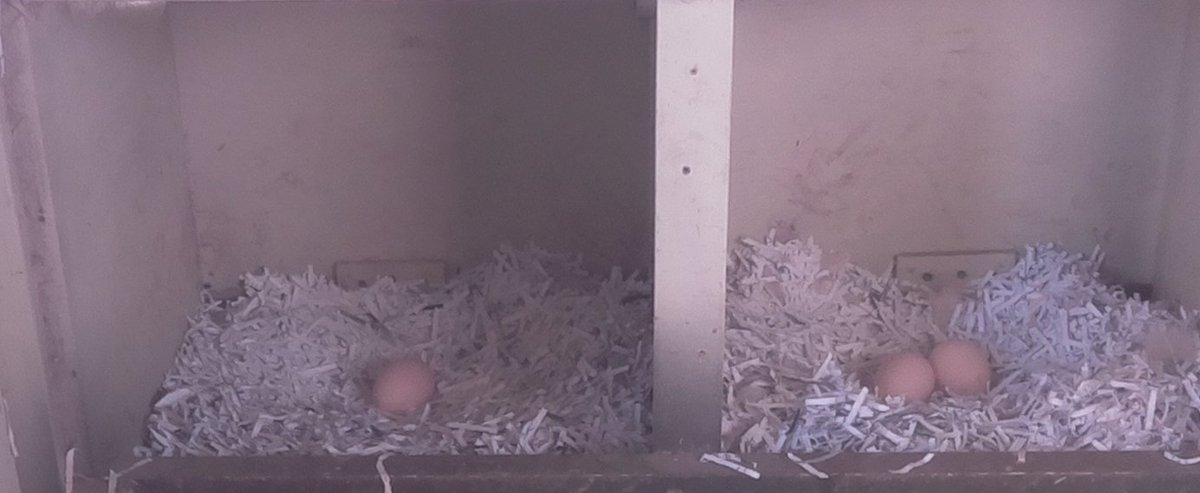egg: (369, 355, 436, 420), (928, 337, 995, 399), (870, 349, 938, 408)
